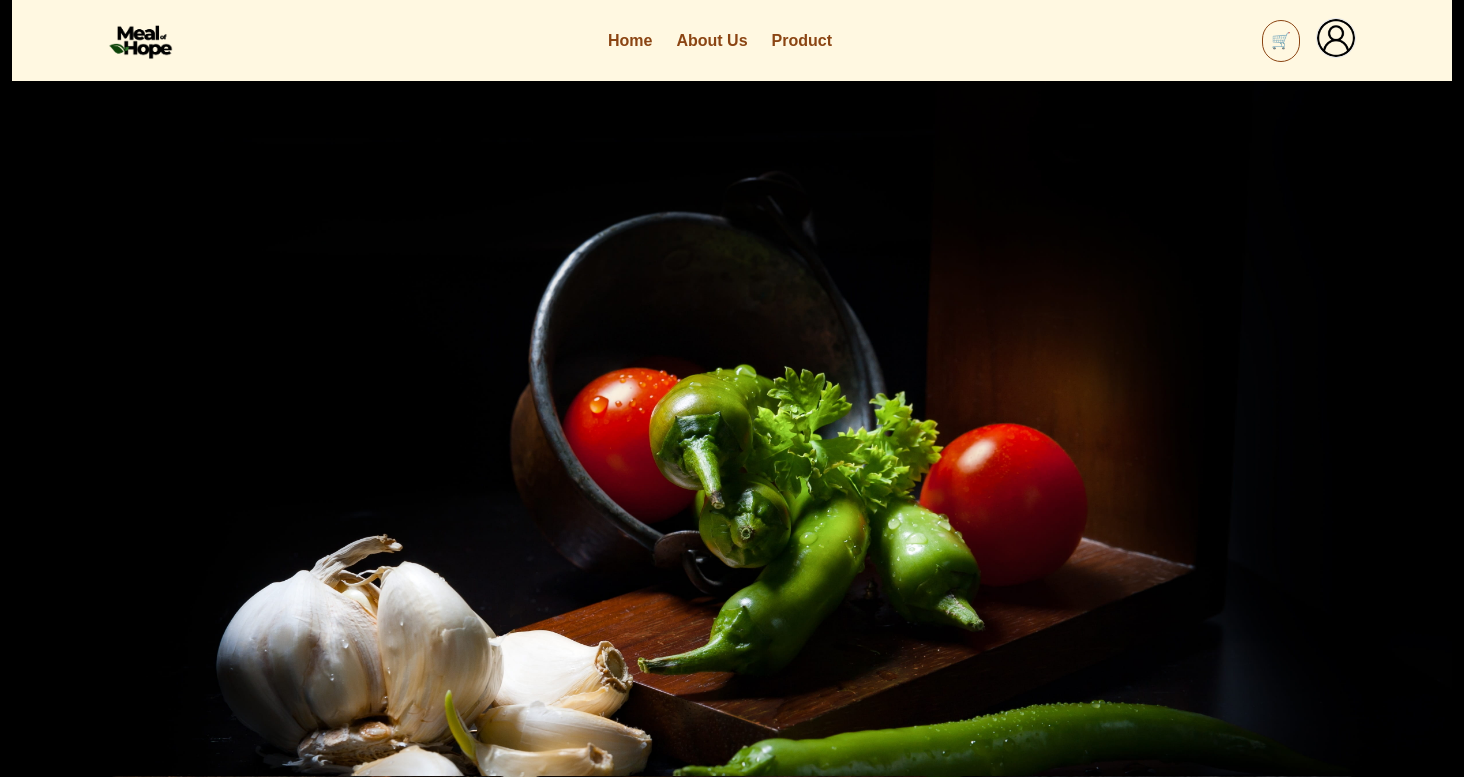
it: HomePage › shows cart icon and profile dropdown when logged in
Expected: the link "🛒" is shown, [1262,20,1300,62]
What coordinates should you click on to do the following:
click the button named "Profile"
I would click on:
 (1336, 38)
Its box is [1316,18,1356,58].
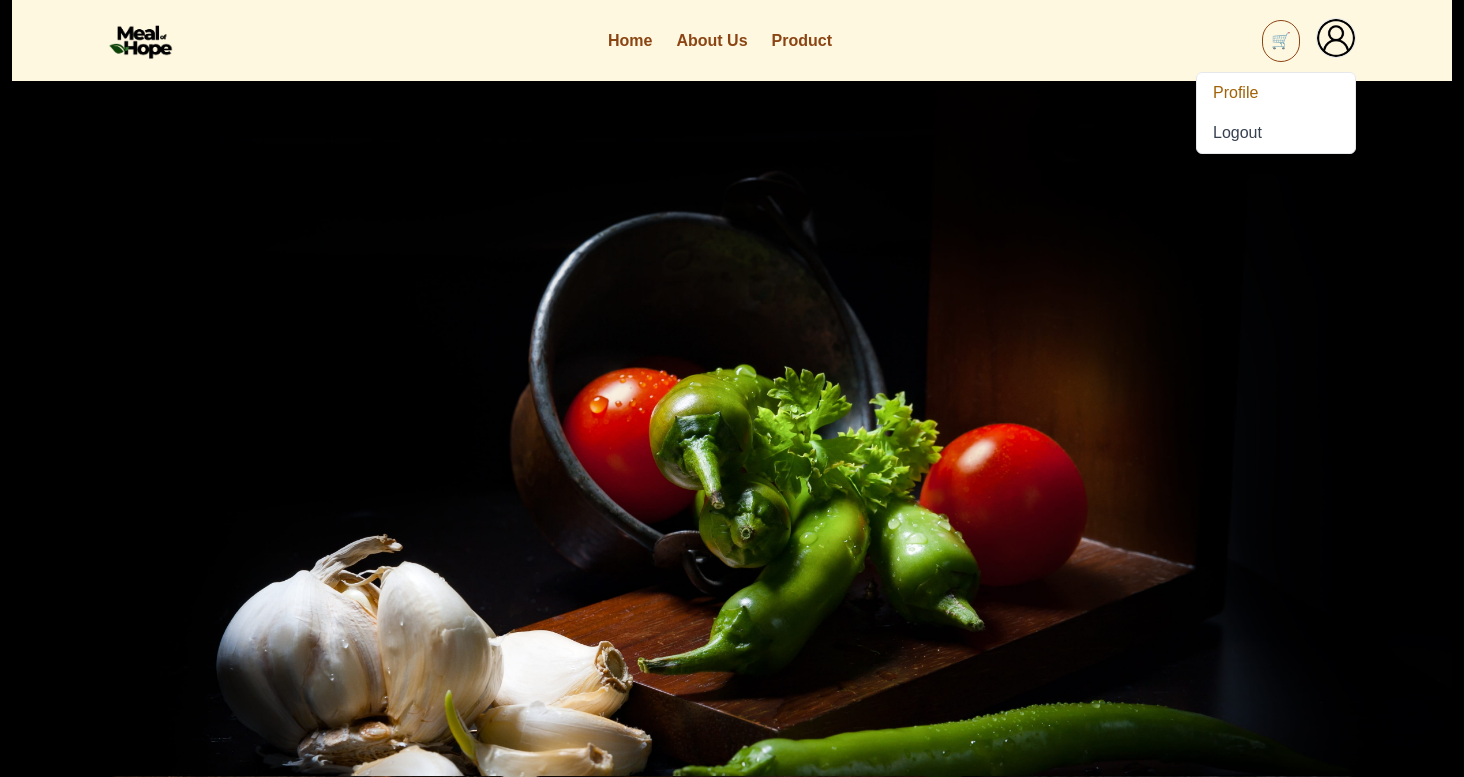
Expected: the link "Profile" is shown, [1213,84,1258,100]
Expected: the button "Logout" is shown, [1197,112,1355,152]
